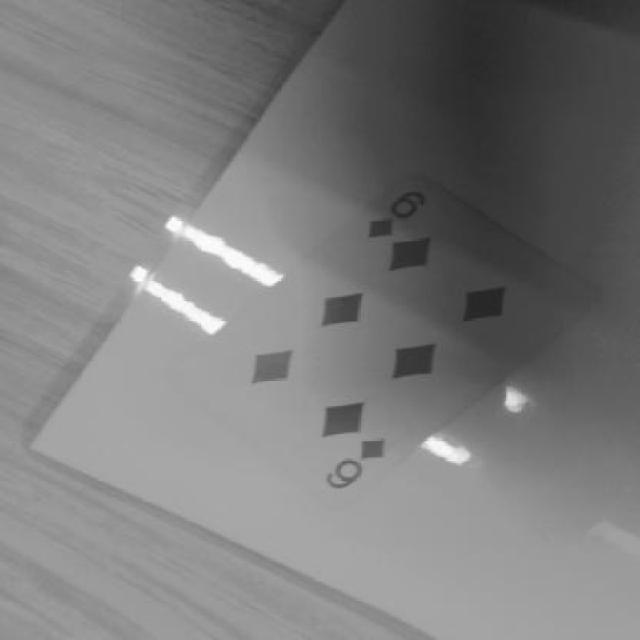6D: (348, 181, 446, 262), (317, 425, 409, 498)
